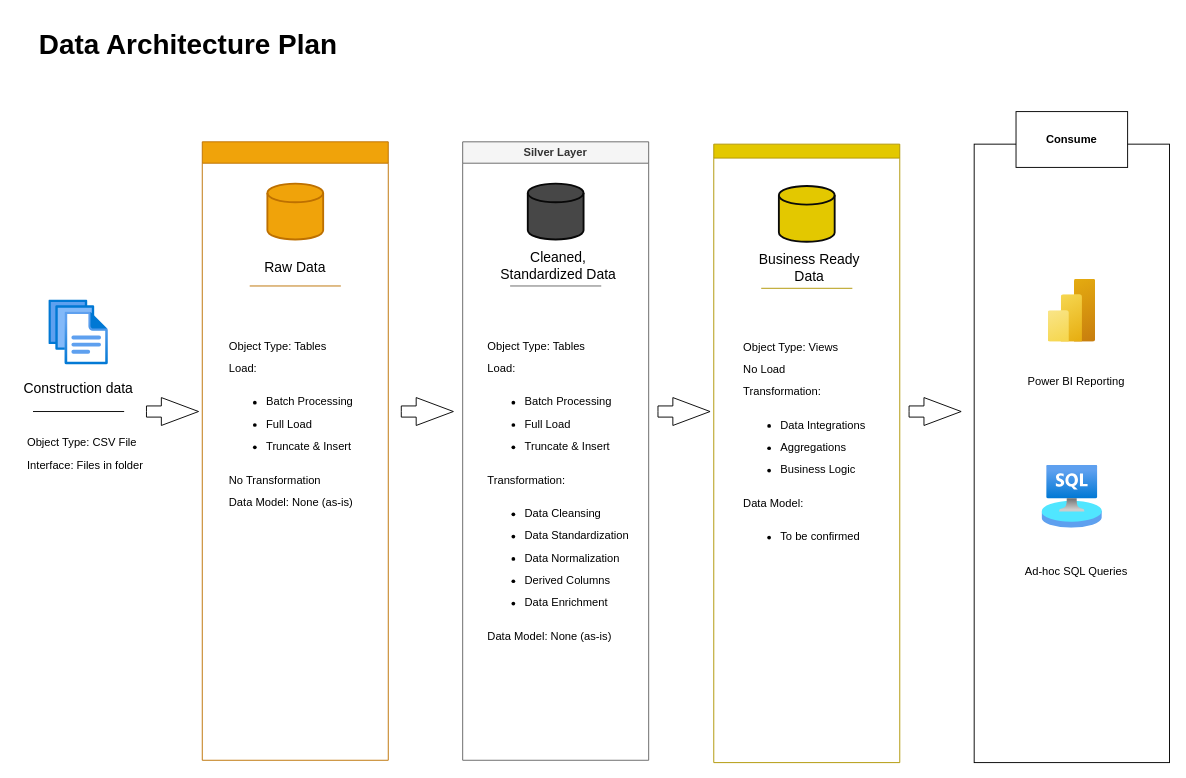
Some shapes in this 1186 by 778 pixel diagram are drawn without their labels. The box of each missing label's shape, as (x1, y1, x2, y2) in pixels:
Bronze Layer: (201, 141, 388, 760)
Gold Layer: (713, 143, 900, 763)
